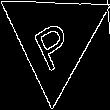P_NW: (29, 7, 79, 69)
